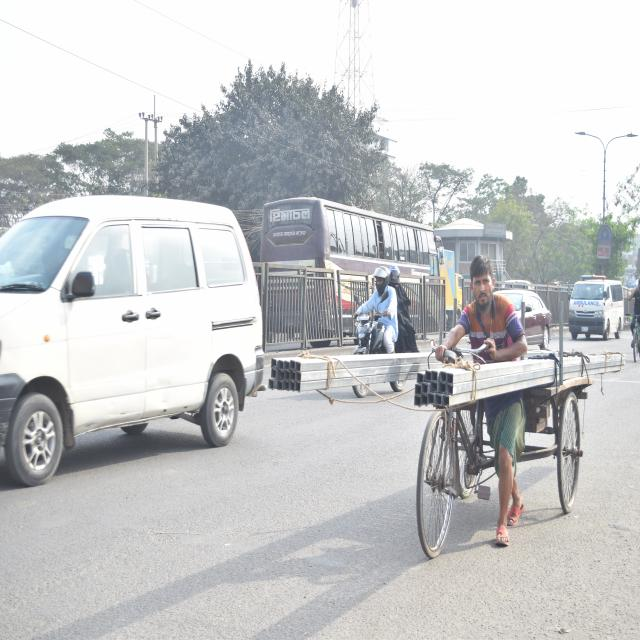car: (498, 284, 556, 339)
microbus: (0, 186, 270, 496), (567, 269, 627, 347)
motorbike: (345, 284, 414, 401)
